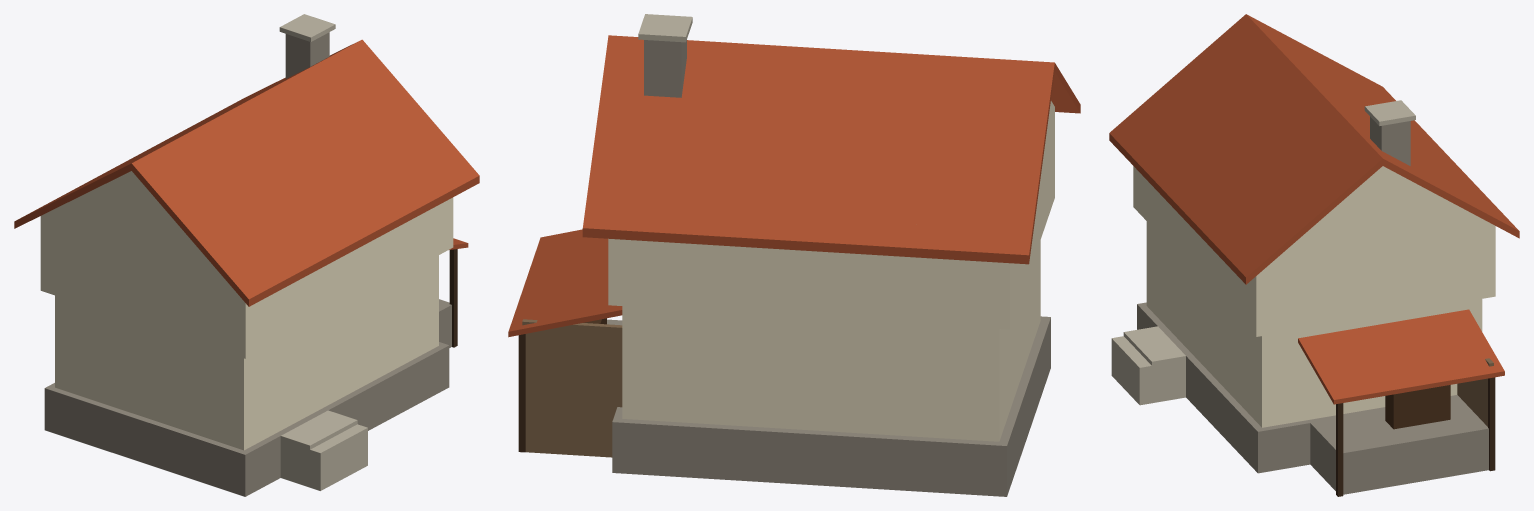
The model's file is SM_WillowPond_House2.fbx.
The picture shows the model from 3 angles, left to right: view 1: azimuth 30°, elevation 25°; view 2: azimuth 150°, elevation 25°; view 3: azimuth 270°, elevation 25°; orthographic projection. The views are drawn at different scales.
Parts seen in each view (by area): view 1: SM_WillowPond_House2; view 2: SM_WillowPond_House2; view 3: SM_WillowPond_House2.
Boxes of the visible parts, <box> form: SM_WillowPond_House2: <box>14,14,479,496</box>; SM_WillowPond_House2: <box>508,14,1080,496</box>; SM_WillowPond_House2: <box>1109,14,1519,496</box>.
Size of the model in its own units: 11.95 by 8.8 by 10.03.
